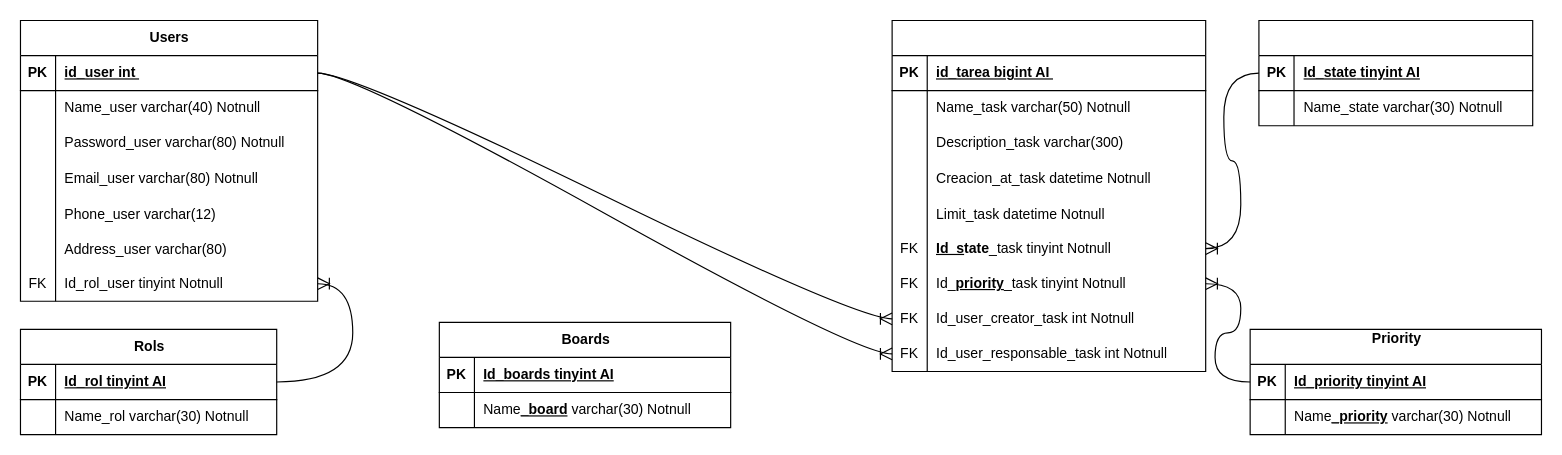
This 1562x455 diagram has some shape labels left out. The shapes that lost their labels are listed below. From the top down, each one's box as (x1, y1, x2, y2) in pixels, then its label:
(1258, 19, 1533, 126): States
(891, 19, 1206, 371): Tasks
